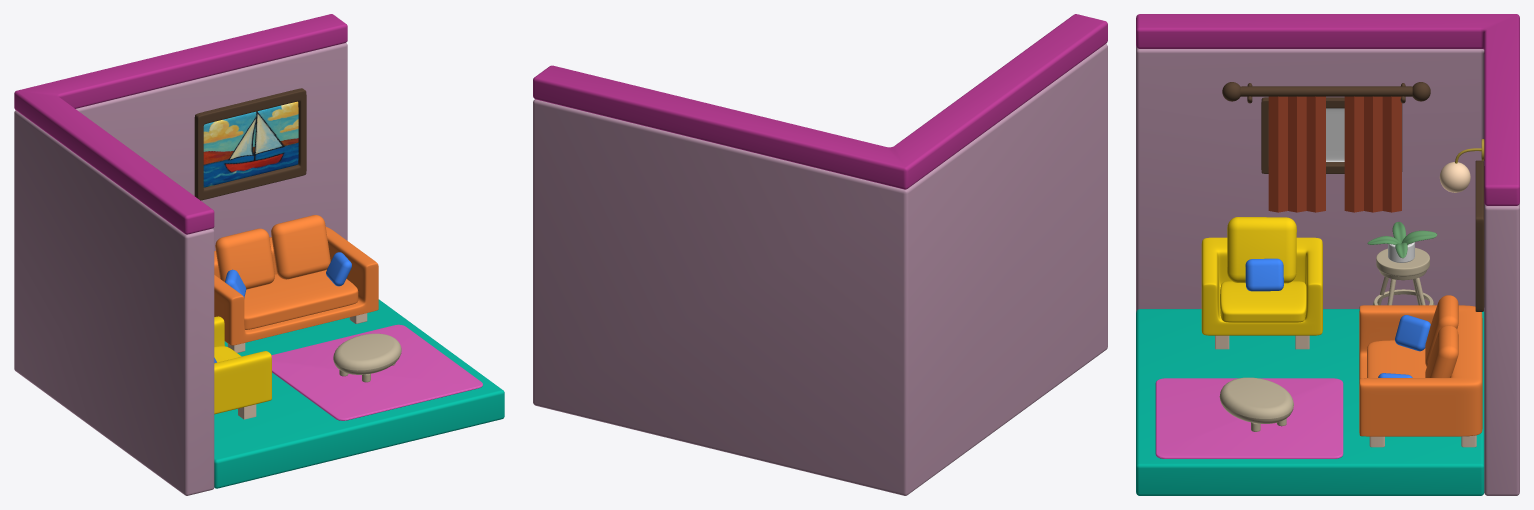
Rendered from Living-room.glb.
3 renders of one model, left to right at view 1: azimuth 30°, elevation 25°; view 2: azimuth 150°, elevation 25°; view 3: azimuth 270°, elevation 25°, orthographic. The views are drawn at different scales.
Parts seen in each view (by area): view 1: Wall, Floor, Wall.002, Rug, Painting.001, Sofa, Sofa.003, Frame, Sofa.002, Pillow, Pillow.001, Table (+1 smaller); view 2: Wall, Wall.002; view 3: Wall, Floor, Wall.002, Curtains, Rug, Sofa, Sofa.002, Pillow.004, Sofa.001, Table, Window, Window.001 (+12 smaller).
Boxes of the visible parts, <box> form: Wall: <box>14,43,347,495</box>; Floor: <box>214,299,504,488</box>; Wall.002: <box>14,14,347,234</box>; Rug: <box>271,324,482,420</box>; Painting.001: <box>203,101,298,187</box>; Sofa: <box>214,227,378,345</box>; Sofa.003: <box>244,269,358,329</box>; Frame: <box>194,88,306,200</box>; Sofa.002: <box>214,316,271,414</box>; Pillow: <box>271,215,330,279</box>; Pillow.001: <box>215,228,274,289</box>; Table: <box>333,333,401,374</box>; Wall: <box>533,44,1107,495</box>; Wall.002: <box>533,14,1107,189</box>; Wall: <box>1136,45,1519,495</box>; Floor: <box>1136,309,1484,495</box>; Wall.002: <box>1136,14,1519,205</box>; Curtains: <box>1268,96,1401,212</box>; Rug: <box>1155,378,1343,458</box>; Sofa: <box>1359,305,1482,436</box>; Sofa.002: <box>1201,237,1322,335</box>; Pillow.004: <box>1227,217,1296,283</box>; Sofa.001: <box>1220,281,1306,322</box>; Table: <box>1219,377,1293,423</box>; Window: <box>1261,97,1402,173</box>; Window.001: <box>1240,86,1412,96</box>.
Size of what is drawn, in the model's own units: 0.559 by 0.4682 by 0.5234.
17 materials, 1 textured.
